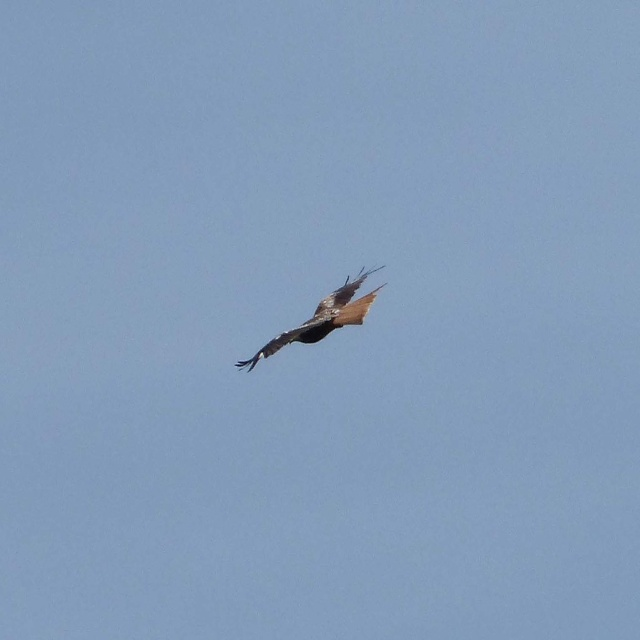Eagle: (234, 262, 390, 373)
